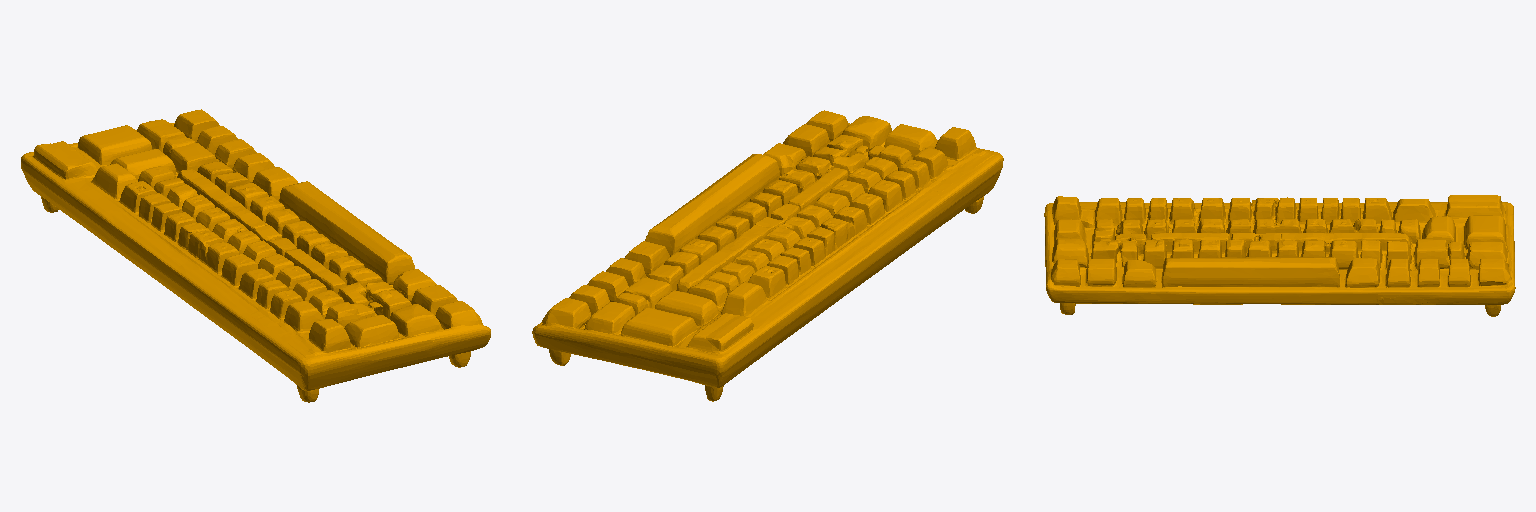
URDF robot description (sample):
<?xml version="1.0" ?>
<robot name="sample">
   <link name="sample">
      <visual>
         <origin xyz="0 0 0" rpy="1.5708 0.0 0.0"/>
         <geometry>
            <mesh filename="mesh/sample.obj" scale="1.0 1.0 1.0"/>
         </geometry>
      </visual>
      <collision>
         <origin xyz="0 0 0" rpy="1.5708 0.0 0.0"/>
         <geometry>
            <mesh filename="mesh/sample_collision.obj" scale="1.0 1.0 1.0"/>
         </geometry>
         <gazebo>
            <mu1>0.70</mu1>
            <mu2>0.55</mu2>
         </gazebo>
      </collision>
      <inertial>
         <mass value="1.0000"/>
         <origin xyz="0 0 0"/>
         <inertia ixx="1.0" ixy="0.0" ixz="0.0" iyy="1.0" iyz="0.0" izz="1.0"/>
      </inertial>
      <extra_info>
         <scale>0.449626</scale>
         <version>v0.1.7</version>
         <category>keyboard</category>
         <description>blue keyboard with yellow and white keys, rectangular shape</description>
         <min_height>0.05</min_height>
         <max_height>0.08</max_height>
         <real_height>0.065</real_height>
         <min_mass>0.8</min_mass>
         <max_mass>1.2</max_mass>
         <generate_time>20260401154521</generate_time>
         <gs_model>mesh/sample_gs.ply</gs_model>
      </extra_info>
   </link>
   <custom_data>
      <quality>
         <MeshGeoChecker>YES</MeshGeoChecker>
         <ImageSegChecker>NO, object is not centered and background is distorted with unnatural horizontal lines.</ImageSegChecker>
         <ImageAestheticChecker>4.091728091239929</ImageAestheticChecker>
         <overall>NO</overall>
      </quality>
   </custom_data>
</robot>

--- Facts derived from the render (not from the file) ---
The picture shows the robot from 3 angles, left to right: view 1: azimuth 30°, elevation 25°; view 2: azimuth 150°, elevation 25°; view 3: azimuth 270°, elevation 25°; orthographic projection.
Model sample with 1 links and 0 joints (none), rooted at sample, posed all joints at 0.
Links seen in each view (by area): view 1: sample; view 2: sample; view 3: sample.
Boxes of the visible links, x1=… form: sample: x1=21, y1=109, x2=490, y2=402; sample: x1=532, y1=110, x2=1003, y2=401; sample: x1=1044, y1=195, x2=1515, y2=316.
Bounding box of the posed robot: 0.1754 × 0.4496 × 0.065 m (x, y, z).
1 mesh visuals loaded from 1 distinct referenced files (1 OBJ).
